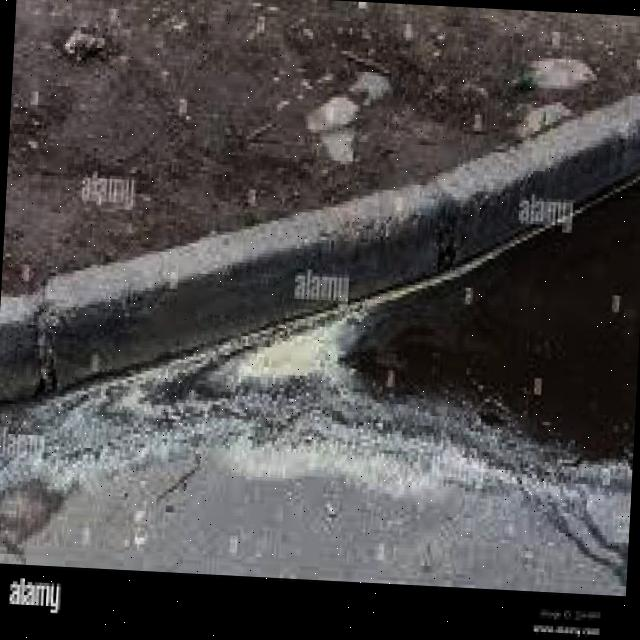curb: (1, 186, 313, 424), (326, 142, 505, 314), (519, 90, 640, 213)
